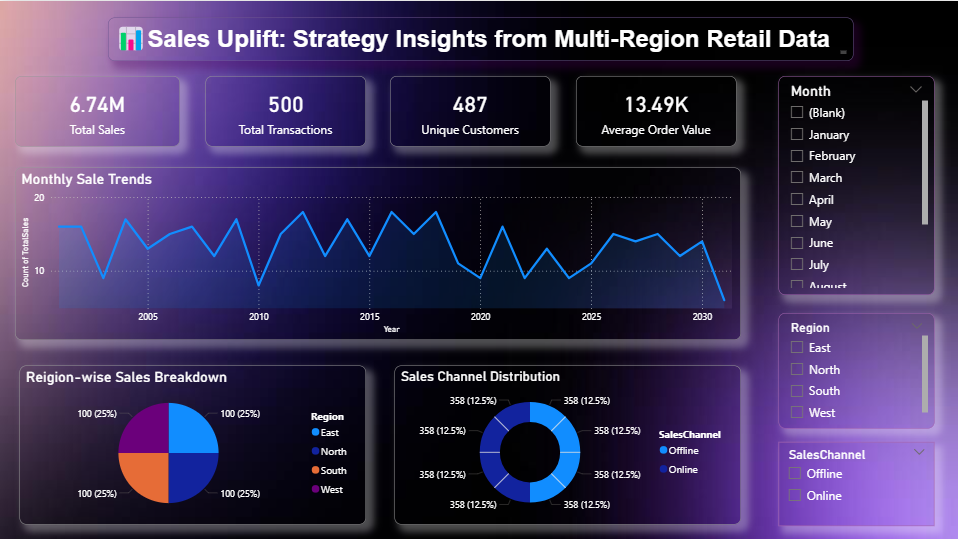

This screenshot's page, from the dashboard's own definition file:
{"tool":"powerbi","page":{"name":"Main Overview","canvas":[1280,720],"ordinal":1},"visuals":[{"type":"pieChart","title":"Reigion-wise Sales Breakdown","fields":{"Category":["csv_db 7 retailtransactions.Region"],"Y":["Sum(region_contribution.ContributionPercent)"]},"box":[26,486,462,212],"z":0},{"type":"lineChart","title":"Monthly Sale Trends","fields":{"Category":["monthly_sales_trend.Month.Variation.Date Hierarchy.Year","monthly_sales_trend.Month.Variation.Date Hierarchy.Quarter","monthly_sales_trend.Month.Variation.Date Hierarchy.Month","monthly_sales_trend.Month.Variation.Date Hierarchy.Day"],"Y":["CountNonNull(monthly_sales_trend.TotalSales)"]},"box":[20,222,968,230],"z":1000},{"type":"donutChart","title":"Sales Channel Distribution","fields":{"Category":["csv_db 7 retailtransactions.SalesChannel"],"Y":["CountNonNull(online_offline_sales.TotalSales)"],"Series":["csv_db 7 retailtransactions.Region"]},"box":[526,486,462,212],"z":2000},{"type":"card","fields":{"Values":["Measures_Managment.Total Sales"]},"box":[20,100,220,94],"z":3000},{"type":"card","fields":{"Values":["Measures_Managment.Total Transactions"]},"box":[274,100,214,94],"z":4000},{"type":"card","fields":{"Values":["Measures_Managment.Unique Customers"]},"box":[520,100,214,94],"z":5000},{"type":"card","fields":{"Values":["Measures_Managment.Average Order Value"]},"box":[768,100,214,94],"z":6000},{"type":"slicer","fields":{"Values":["csv_db 7 retailtransactions.Region"]},"box":[1038,416,208,154],"z":7000},{"type":"slicer","fields":{"Values":["online_offline_sales.Month.Variation.Date Hierarchy.Month"]},"box":[1038,100,208,292],"z":8000},{"type":"slicer","fields":{"Values":["csv_db 7 retailtransactions.SalesChannel"]},"box":[1038,588,208,112],"z":9000},{"type":"textbox","title":"📊Sales Uplift: Strategy Insights from Multi-Region Retail Data","box":[143,22,994,58],"z":10000}]}

Visuals, with their boxes in screenshot pixels (x1, y1, x2, y2), scaled from the page's 1280x720 canvas onto the 958x539 screenshot:
"Reigion-wise Sales Breakdown" pieChart: l=19, t=364, r=365, b=523
"Monthly Sale Trends" lineChart: l=15, t=166, r=739, b=338
"Sales Channel Distribution" donutChart: l=394, t=364, r=739, b=523
card - Measures_Managment.Total Sales: l=15, t=75, r=180, b=145
card - Measures_Managment.Total Transactions: l=205, t=75, r=365, b=145
card - Measures_Managment.Unique Customers: l=389, t=75, r=549, b=145
card - Measures_Managment.Average Order Value: l=575, t=75, r=735, b=145
slicer - csv_db 7 retailtransactions.Region: l=777, t=311, r=933, b=427
slicer - online_offline_sales.Month.Variation.Date Hierarchy.Month: l=777, t=75, r=933, b=293
slicer - csv_db 7 retailtransactions.SalesChannel: l=777, t=440, r=933, b=524
"📊Sales Uplift: Strategy Insights from Multi-Region Retail Data" textbox: l=107, t=16, r=851, b=60
